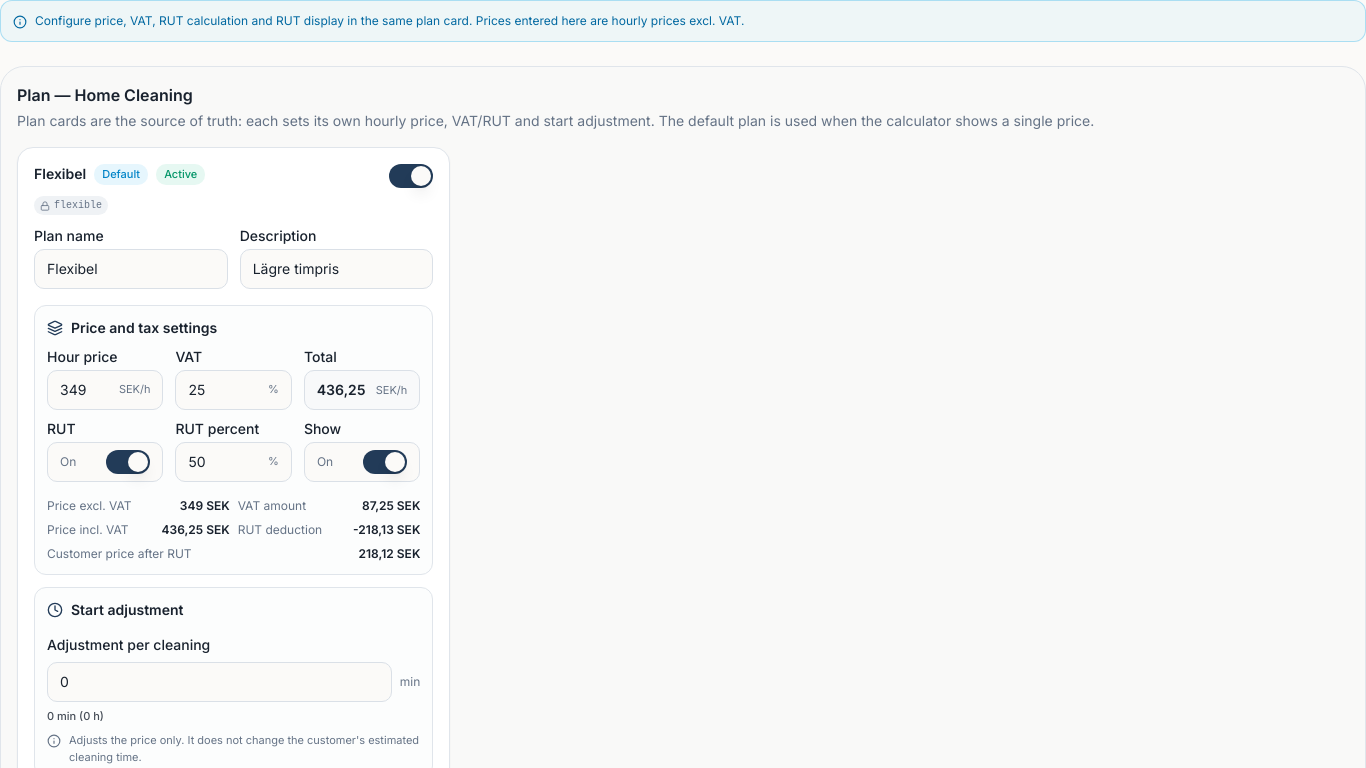
Test: CleaningPlansEditor › blocks a negative hourly price and does not save
Replace the text in the number field labelled "Hour price" with "-5". click: (83, 390)
box: [60,370,107,408]
(page scrolled)
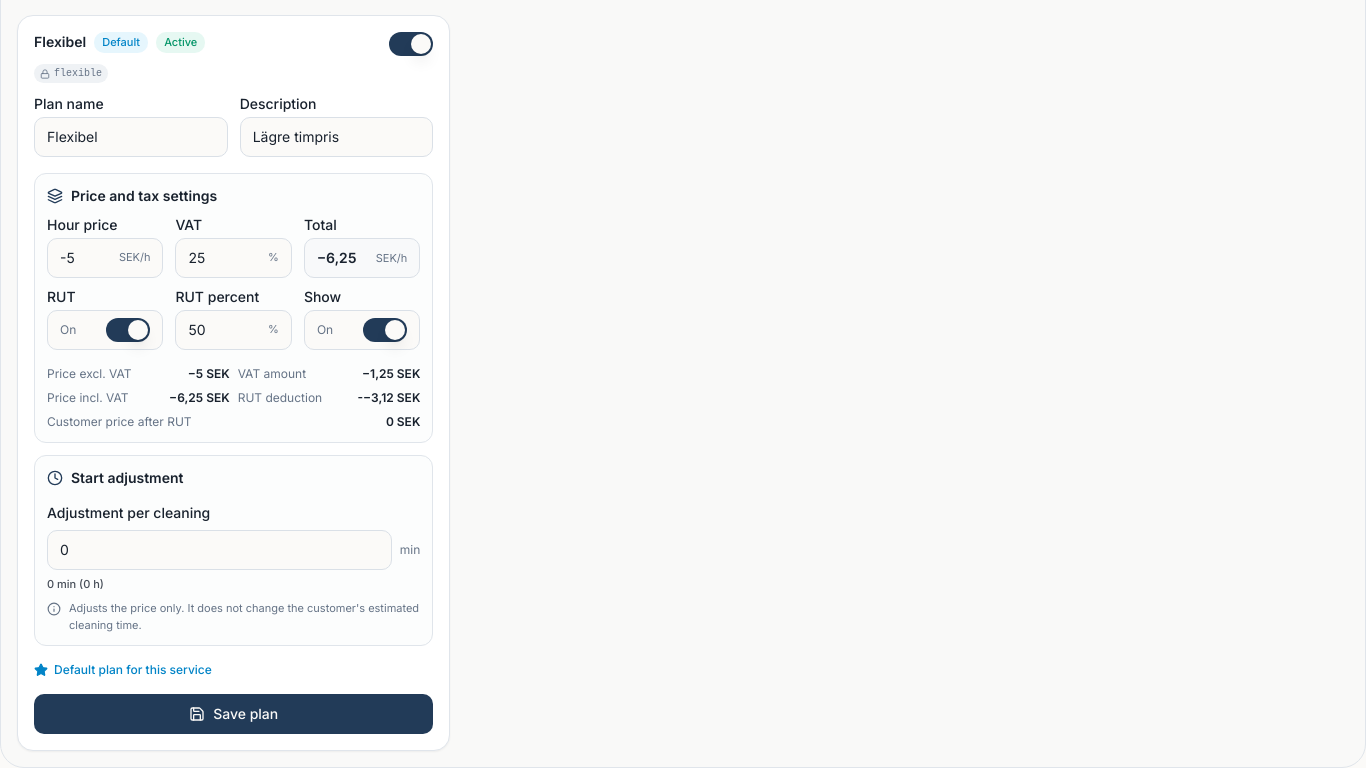
Click the button "Save plan". click: (234, 714)
box: [34,694,433,734]
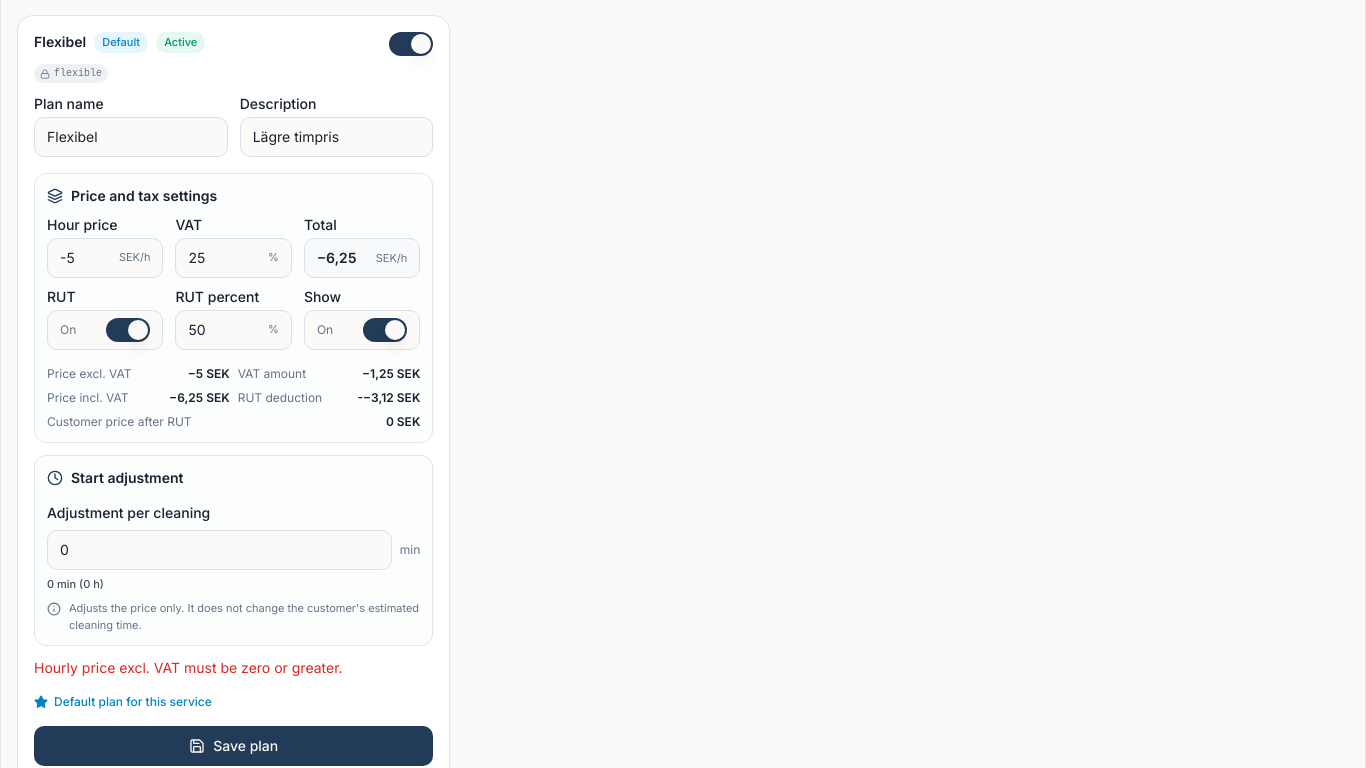
Now the text "Hourly price excl. VAT must be zero or greater." is shown, box [34,659,343,676]
